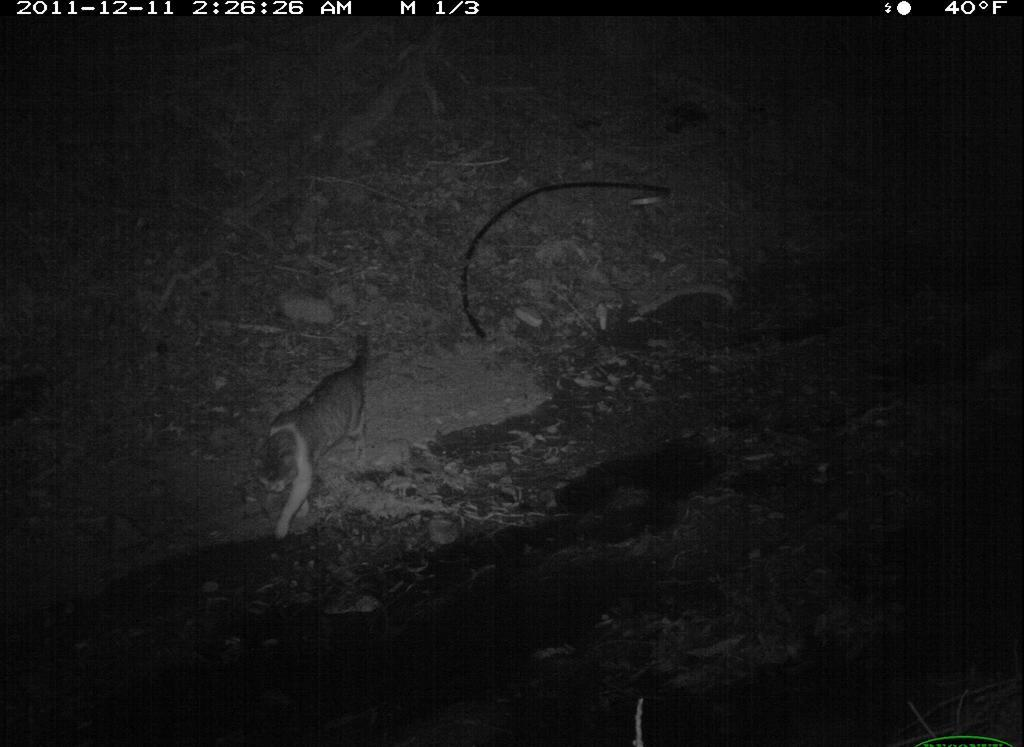cat: (244, 319, 390, 550)
